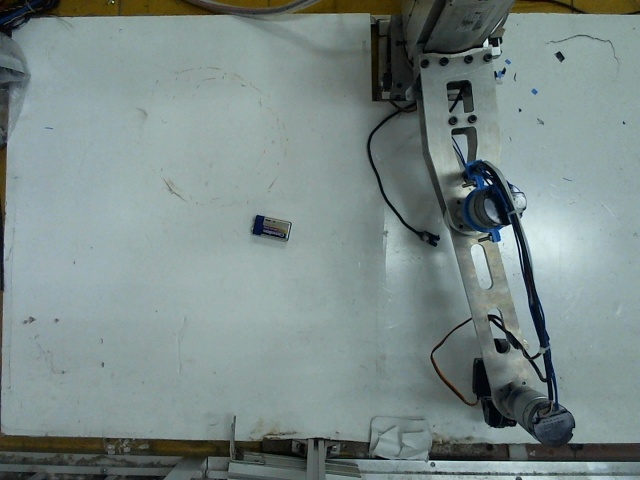battery: (246, 209, 293, 240)
